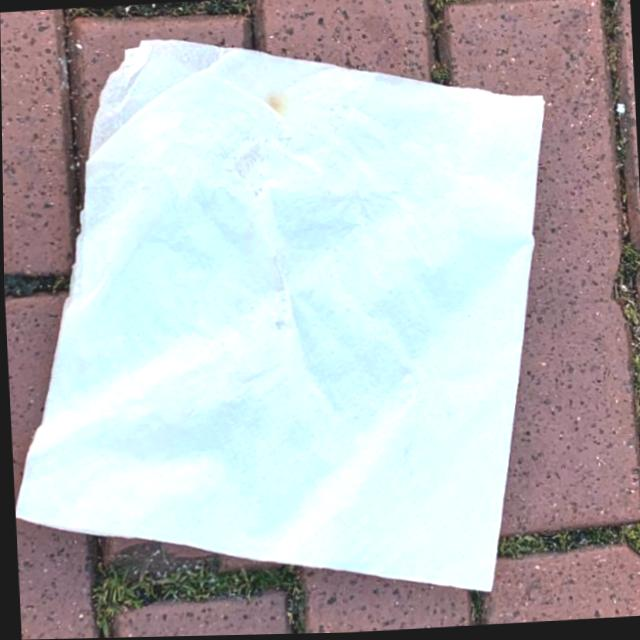Paper: (0, 15, 569, 620)
